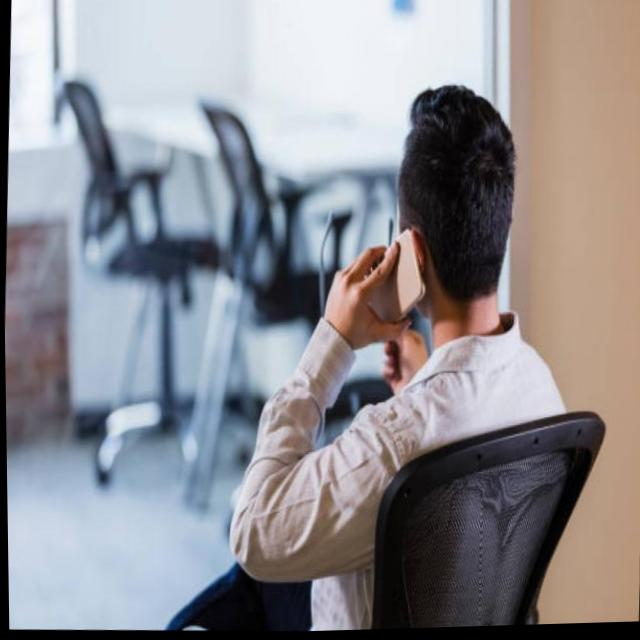no helmet: (357, 50, 553, 372)
